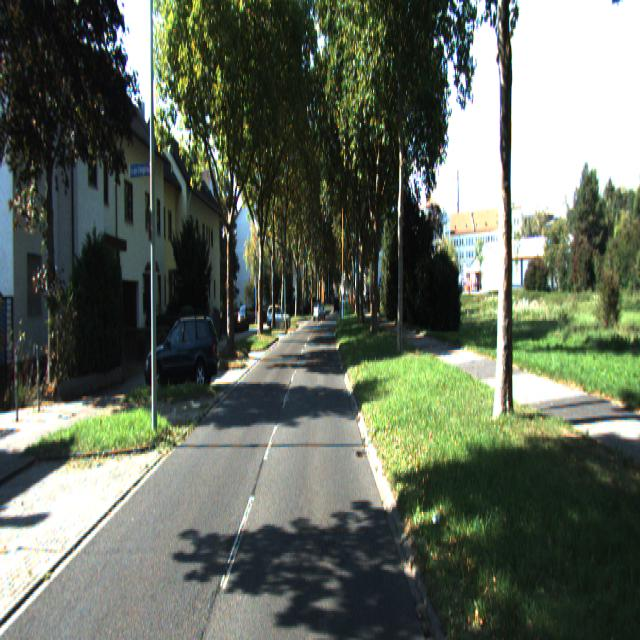Car: (143, 315, 221, 398), (266, 307, 292, 333)
